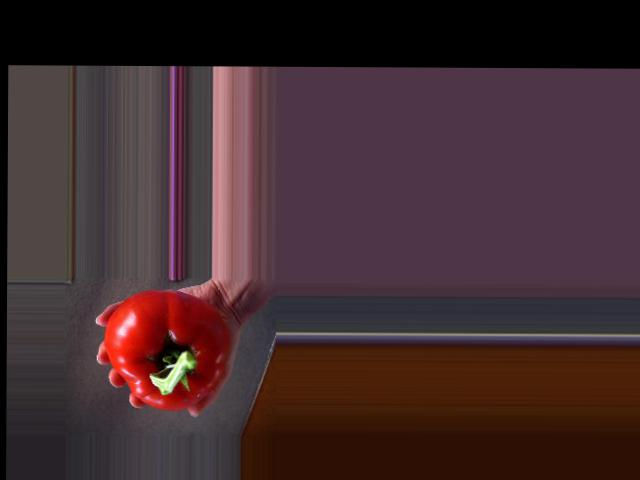tomato: (103, 289, 229, 411)
